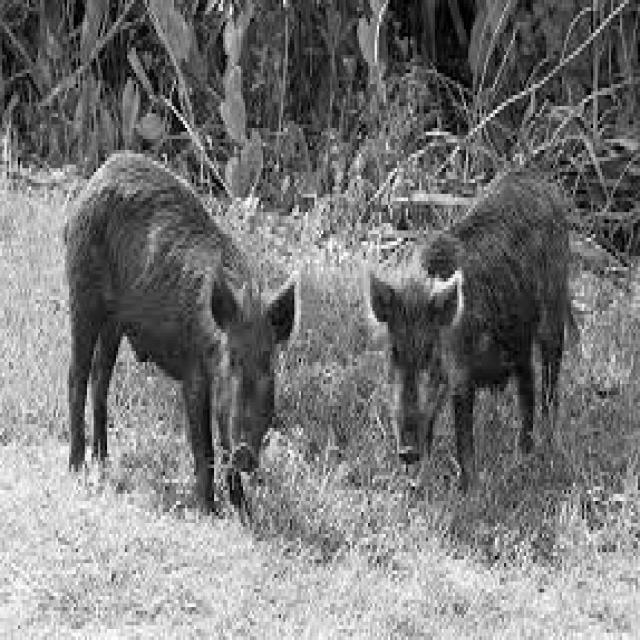boar: (65, 154, 297, 512), (370, 176, 571, 492)
